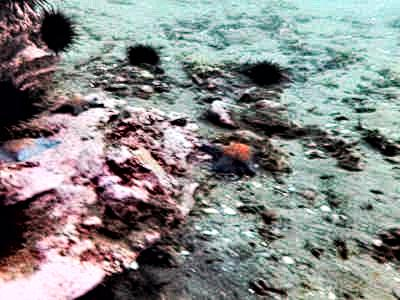urchin: (34, 3, 76, 55), (1, 73, 43, 124), (3, 200, 34, 259), (240, 57, 289, 85), (126, 42, 163, 64)
